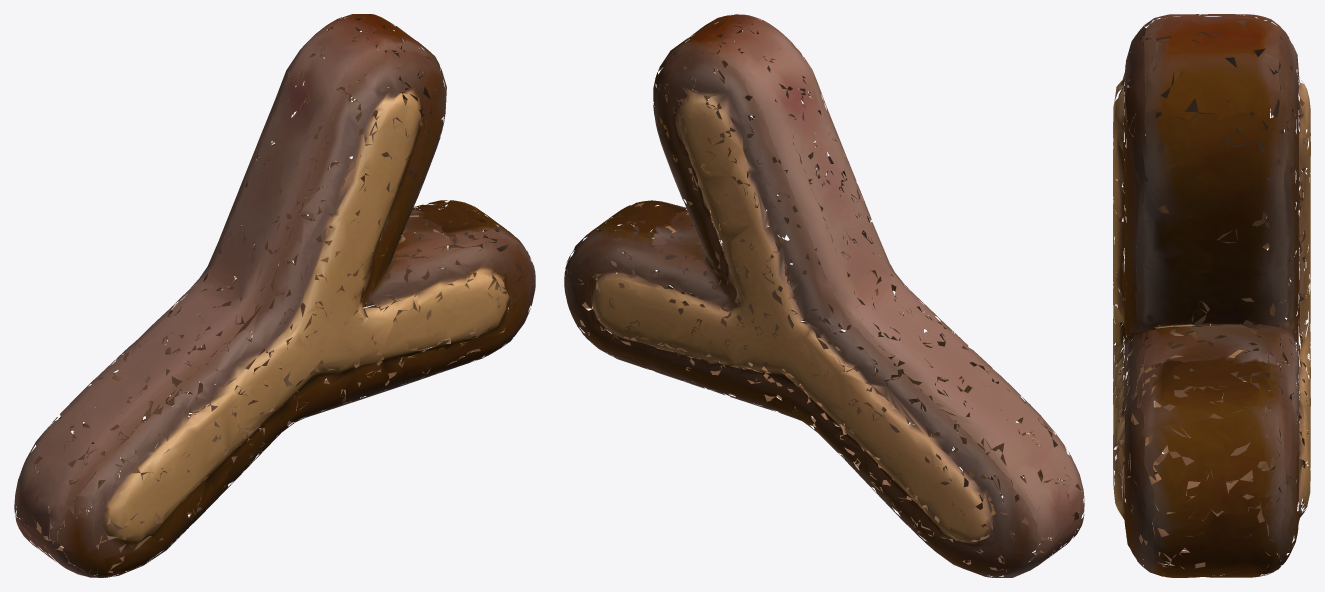
The model's file is stick.glb.
The picture shows the model from 3 angles, left to right: view 1: azimuth 30°, elevation 25°; view 2: azimuth 150°, elevation 25°; view 3: azimuth 270°, elevation 25°; orthographic projection. The views are drawn at different scales.
Size of the model in its own units: 0.1201 by 0.1111 by 0.0296.
Materials: 1 (1 with a texture image).
